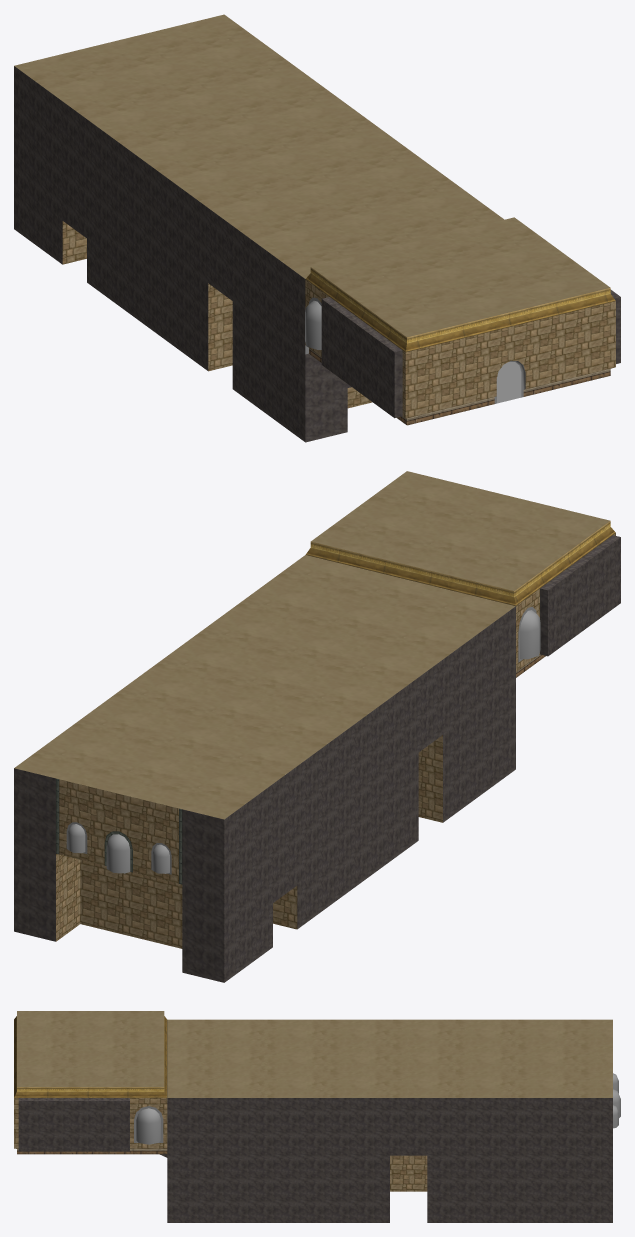
Rendered from Library_FireRoom01.FBX.
3 views of the same model, one above another, from view 1: azimuth 30°, elevation 25°; view 2: azimuth 150°, elevation 25°; view 3: azimuth 270°, elevation 25° (orthographic). The views are drawn at different scales.
Parts seen in each view (by area): view 1: Lib03_Ceiling_BrownFlat, Lib03_Concrete, Lib03_Wall_BrickDark01, Lib03_Arches, Lib03_Alcove, Lib03_LibraryCarpets; view 2: Lib03_Ceiling_BrownFlat, Lib03_Concrete, Lib03_Wall_BrickDark01, Lib03_Arches, Lib03_Alcove; view 3: Lib03_Concrete, Lib03_Ceiling_BrownFlat, Lib03_Arches, Lib03_Wall_BrickDark01, Lib03_Alcove.
Boxes of the visible parts, x1,y1,x2,y2 form: Lib03_Ceiling_BrownFlat: (14, 14, 610, 337); Lib03_Concrete: (14, 66, 620, 442); Lib03_Wall_BrickDark01: (62, 221, 615, 418); Lib03_Arches: (305, 267, 615, 425); Lib03_Alcove: (305, 297, 321, 349); Lib03_LibraryCarpets: (497, 362, 521, 398); Lib03_Ceiling_BrownFlat: (14, 471, 610, 819); Lib03_Concrete: (14, 535, 620, 982); Lib03_Wall_BrickDark01: (56, 533, 615, 948); Lib03_Arches: (56, 521, 615, 884); Lib03_Alcove: (66, 606, 540, 874); Lib03_Concrete: (18, 1098, 612, 1222); Lib03_Ceiling_BrownFlat: (17, 1011, 612, 1097); Lib03_Arches: (14, 1016, 167, 1154); Lib03_Wall_BrickDark01: (14, 1098, 427, 1191); Lib03_Alcove: (134, 1073, 620, 1144).
Bounding box in the file's own units: 22.09 × 16 × 65.36.
